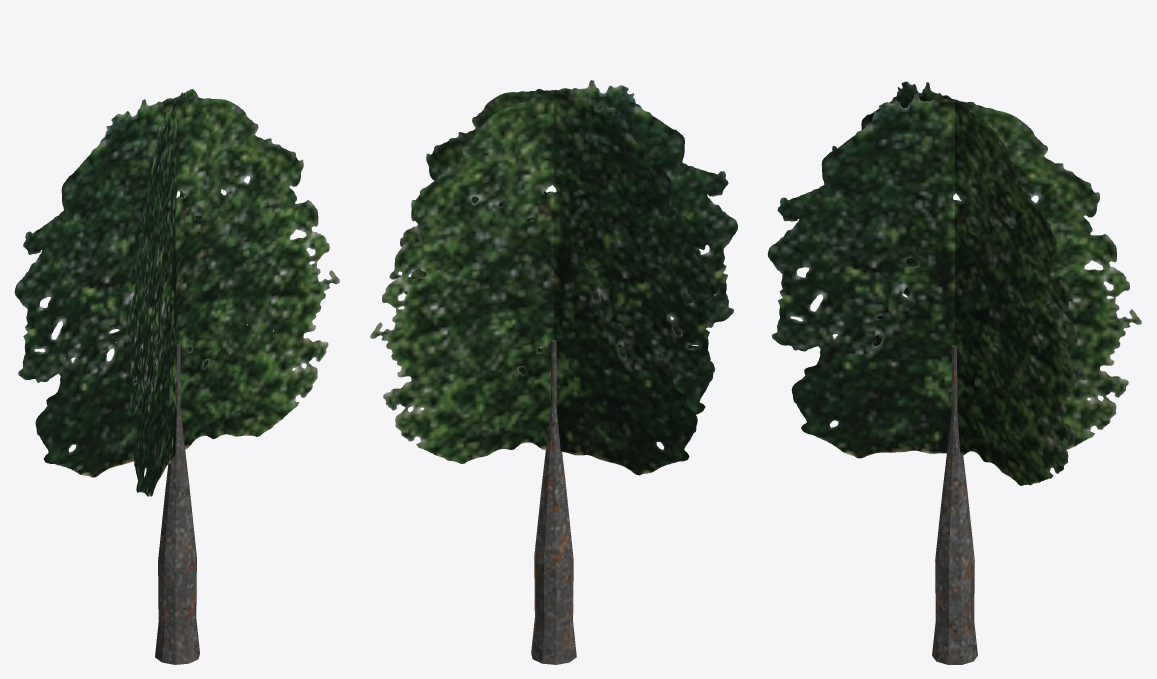
The model's file is uglyTree.fbx.
The picture shows the model from 3 angles, left to right: view 1: azimuth 30°, elevation 25°; view 2: azimuth 150°, elevation 25°; view 3: azimuth 270°, elevation 25°; orthographic projection.
Visible parts, largest first — view 1: Plane, Cylinder; view 2: Plane, Cylinder; view 3: Plane, Cylinder.
Boxes of the visible parts, x1,y1,x2,y2 form: Plane: (14,89,339,496); Cylinder: (155,343,199,664); Plane: (370,80,737,475); Cylinder: (531,340,576,664); Plane: (767,81,1141,485); Cylinder: (932,345,977,664).
Size of the model in its own units: 831 by 1371 by 831.
